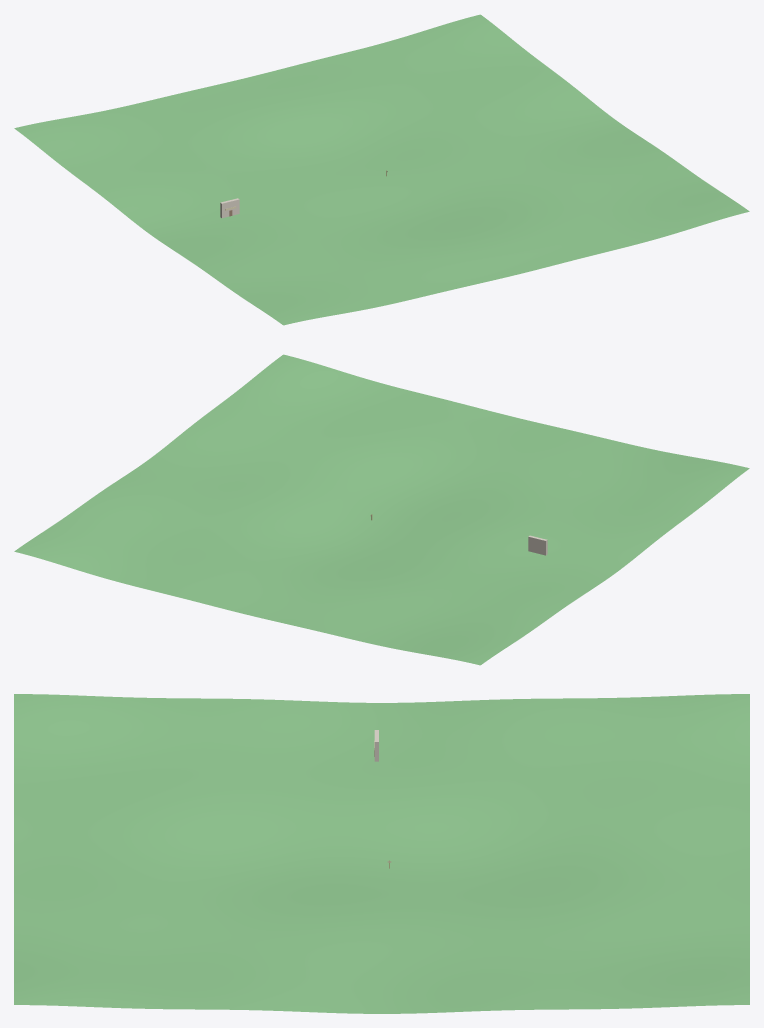
Rendered from endless_hills.glb.
3 views of the same model, one above another, from view 1: azimuth 30°, elevation 25°; view 2: azimuth 150°, elevation 25°; view 3: azimuth 270°, elevation 25° (orthographic). The views are drawn at different scales.
Visible parts, largest first — view 1: decor_Hills_Surface; view 2: decor_Hills_Surface; view 3: decor_Hills_Surface.
Part boxes in pixels (left/top/right/bottom): decor_Hills_Surface: left=14, top=14, right=749, bottom=325; decor_Hills_Surface: left=14, top=354, right=749, bottom=665; decor_Hills_Surface: left=14, top=694, right=749, bottom=1013.
Bounding box in the file's own units: 200 × 7.72 × 200.
